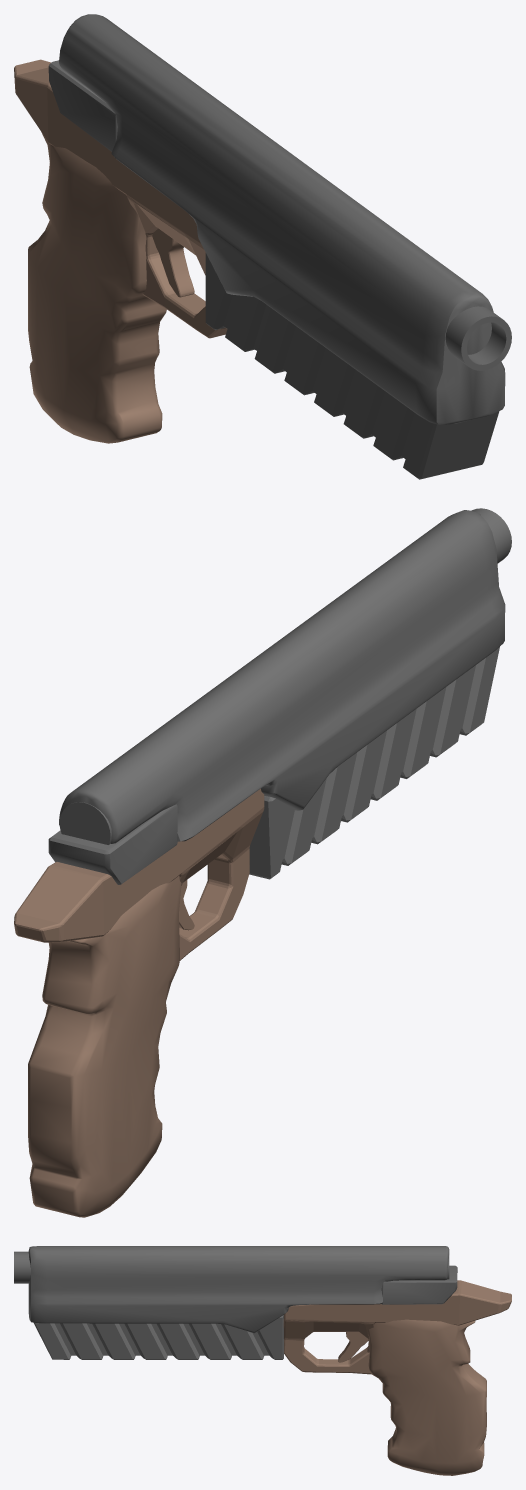
File: gun.fbx
3 views of the same model, one above another, from view 1: azimuth 30°, elevation 25°; view 2: azimuth 150°, elevation 25°; view 3: azimuth 270°, elevation 25° (orthographic). The views are drawn at different scales.
Visible parts, largest first — view 1: Cube, Handle, Cube.003, Cube.001, Cube.002, Barrel, Trigger; view 2: Cube, Handle, Cube.001, Cube.003, Cube.002, Barrel; view 3: Cube, Handle, Cube.003, Cube.001, Cube.002, Barrel, Trigger.
Boxes of the visible parts, box(x1,y1,x2,y2) form: Cube: box(59, 14, 505, 424); Handle: box(28, 132, 166, 443); Cube.003: box(205, 253, 499, 479); Cube.001: box(14, 59, 227, 338); Cube.002: box(48, 60, 117, 151); Barrel: box(445, 306, 511, 370); Trigger: box(152, 228, 194, 297); Cube: box(59, 510, 505, 843); Handle: box(28, 876, 181, 1217); Cube.001: box(14, 788, 264, 960); Cube.003: box(249, 647, 499, 879); Cube.002: box(48, 804, 177, 884); Barrel: box(59, 508, 511, 844); Cube: box(28, 1246, 449, 1333); Handle: box(368, 1319, 486, 1475); Cube.003: box(34, 1315, 283, 1359); Cube.001: box(283, 1280, 511, 1374); Cube.002: box(381, 1265, 457, 1304); Barrel: box(14, 1251, 449, 1283); Trigger: box(338, 1332, 368, 1362).
Bounding box in the file's own units: 49.38 × 243 × 491.
